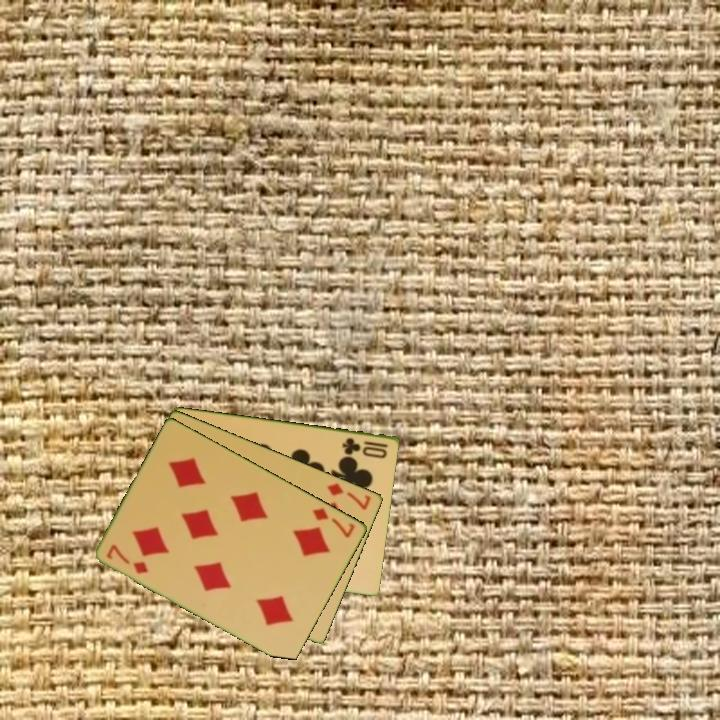10c: (339, 434, 391, 461)
7d: (309, 504, 358, 541), (103, 541, 152, 577), (324, 479, 374, 513)
